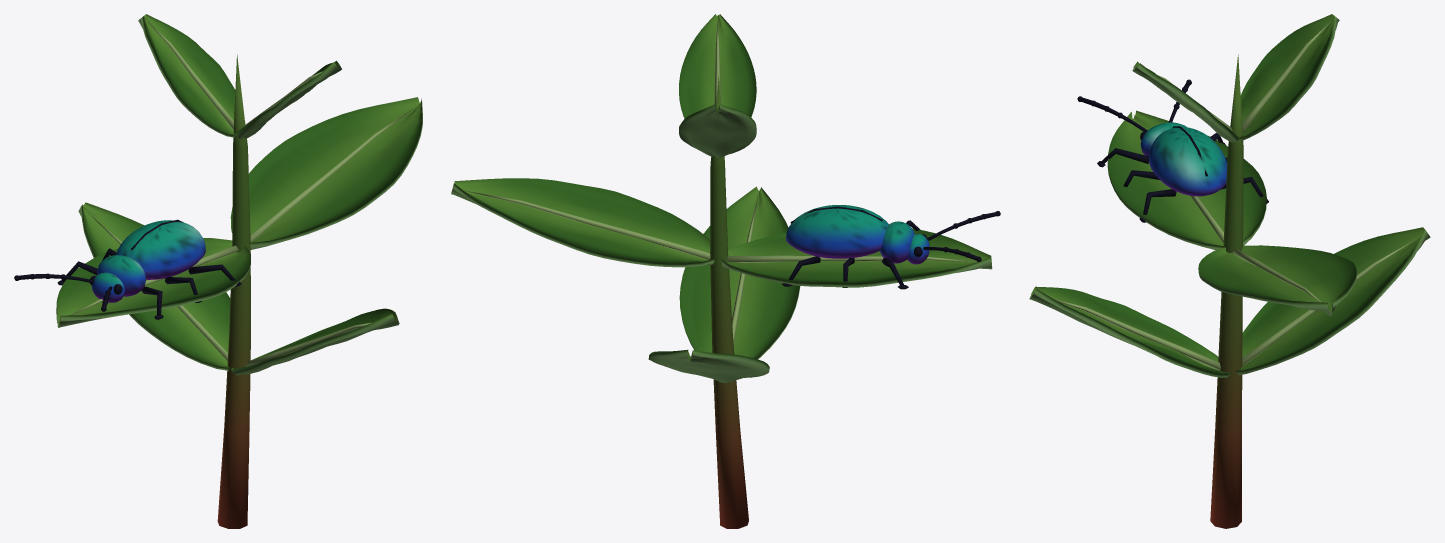
File: ChrysochusChinensis.fbx
3 renders of one model, left to right at view 1: azimuth 30°, elevation 25°; view 2: azimuth 150°, elevation 25°; view 3: azimuth 270°, elevation 25°, orthographic. The views are drawn at different scales.
Parts seen in each view (by area): view 1: ChrysochusChinensis; view 2: ChrysochusChinensis; view 3: ChrysochusChinensis.
Boxes of the visible parts, left/top/right/bottom form: ChrysochusChinensis: left=14, top=14, right=422, bottom=528; ChrysochusChinensis: left=451, top=14, right=1000, bottom=528; ChrysochusChinensis: left=1029, top=14, right=1430, bottom=528.
Size of the model in its own units: 0.9259 by 0.89 by 0.6608.
